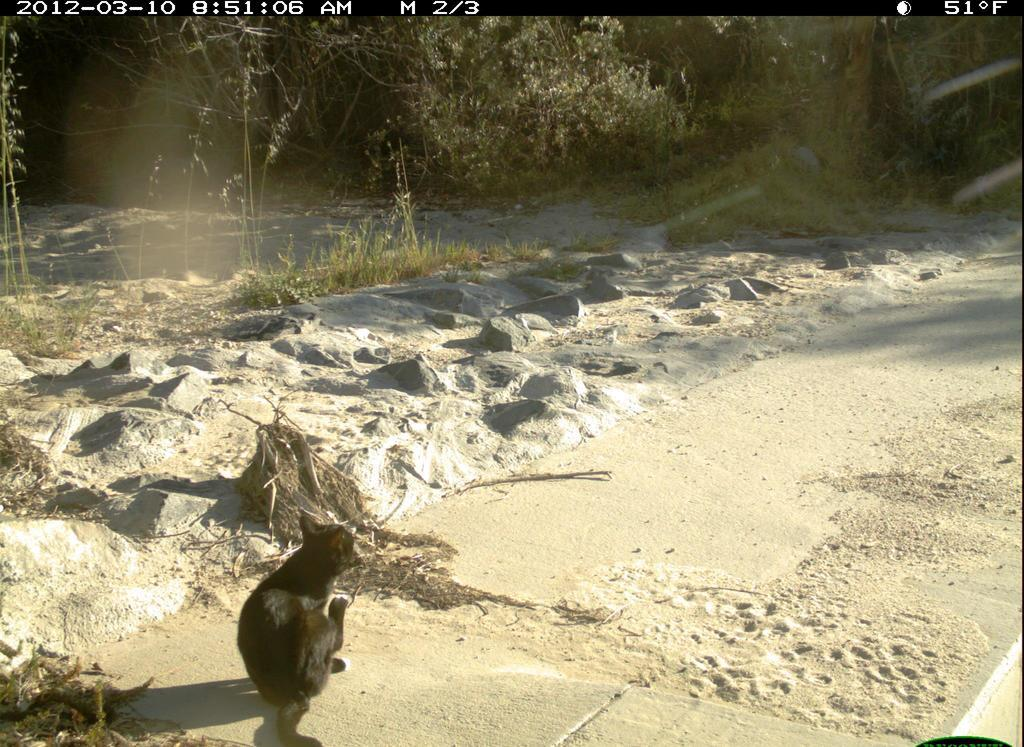cat: (228, 502, 378, 747)
